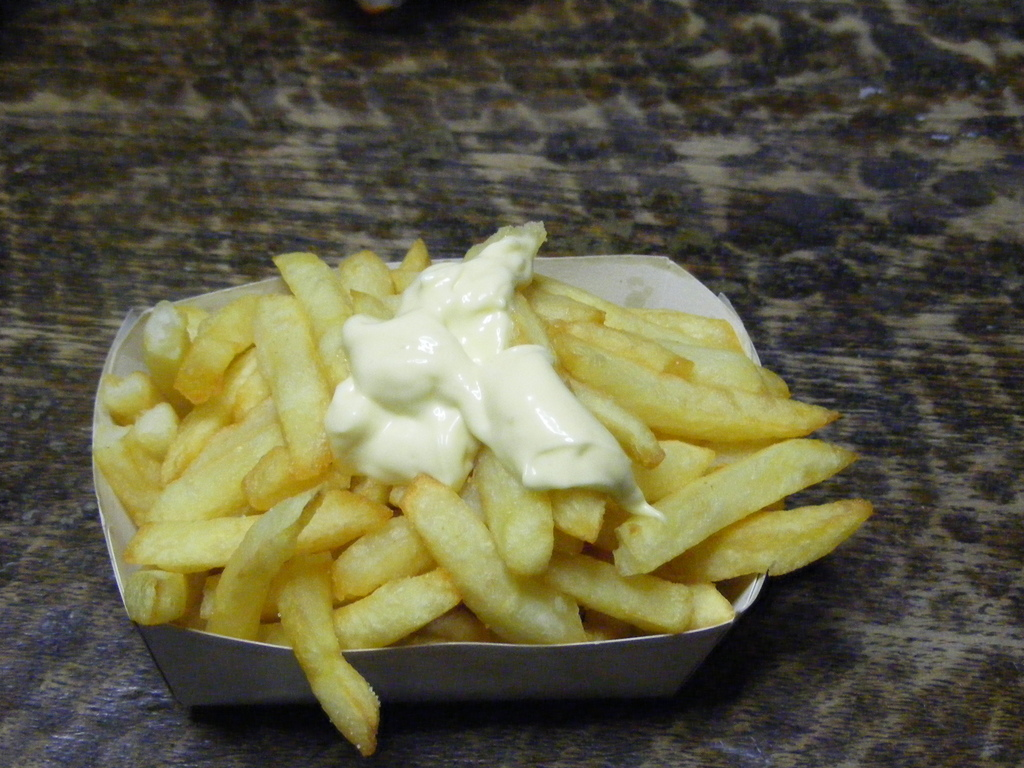French fries: (110, 234, 864, 752)
